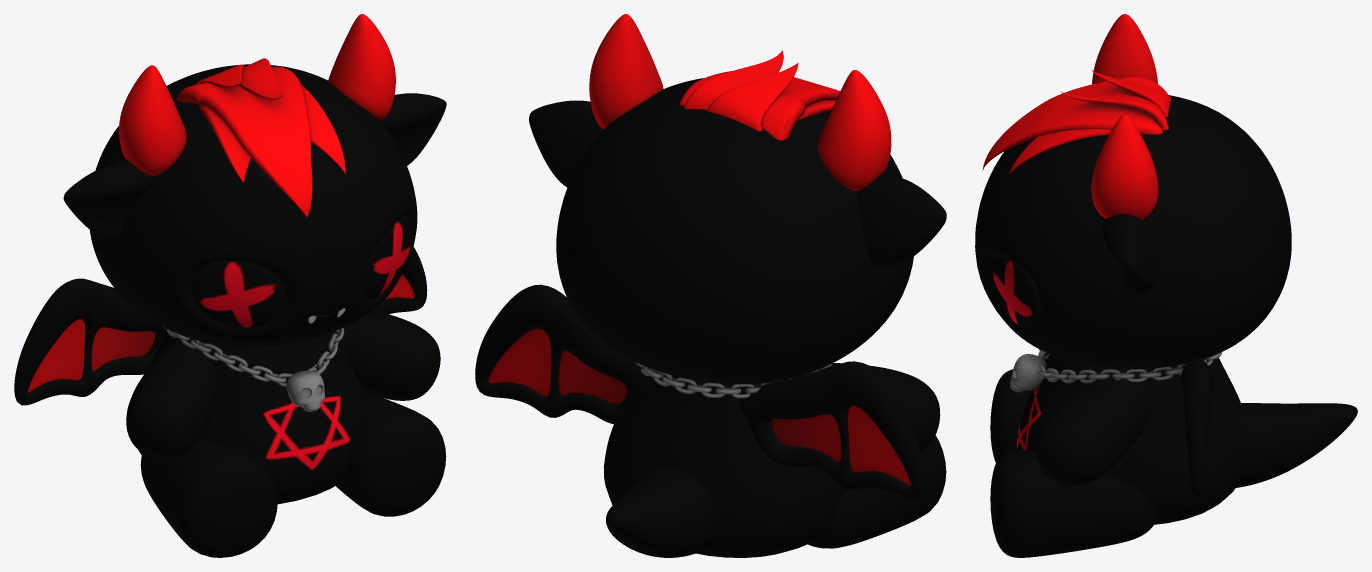
3 views of the same model, side by side, from view 1: azimuth 30°, elevation 25°; view 2: azimuth 150°, elevation 25°; view 3: azimuth 270°, elevation 25° (orthographic). The views are drawn at different scales.
Visible parts, largest first — view 1: body.007; view 2: body.007; view 3: body.007.
Boxes of the visible parts, x1,y1,x2,y2 form: body.007: (14, 14, 446, 557); body.007: (475, 14, 946, 557); body.007: (975, 14, 1357, 557).
Bounding box in the file's own units: 0.9391 × 0.9923 × 0.7703.
Materials: 1 (1 with a texture image).
